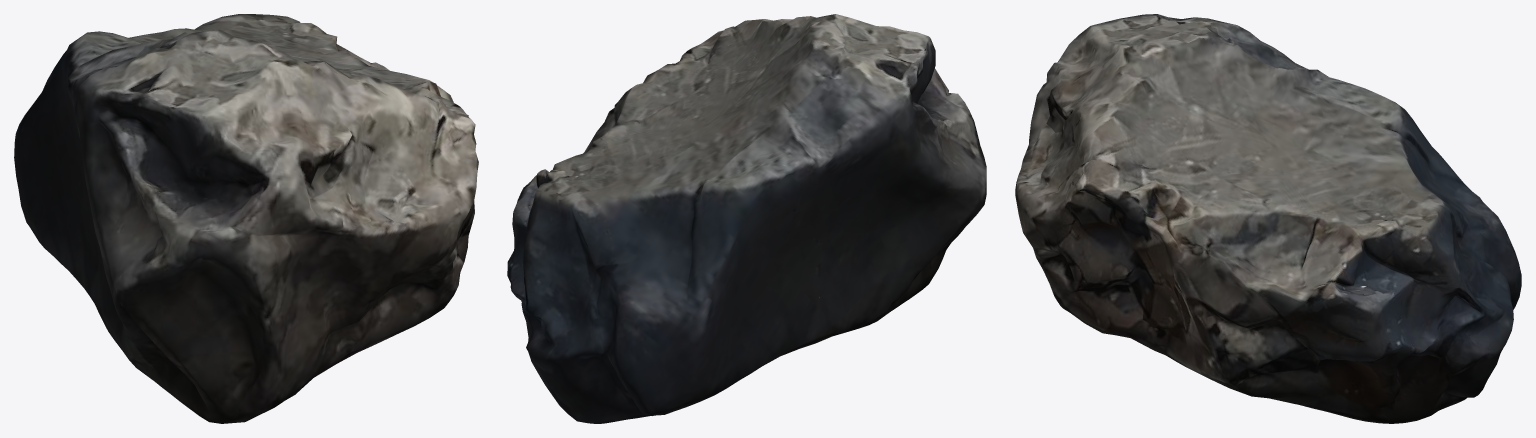
The model's file is rock2.glb.
The picture shows the model from 3 angles, left to right: view 1: azimuth 30°, elevation 25°; view 2: azimuth 150°, elevation 25°; view 3: azimuth 270°, elevation 25°; orthographic projection. The views are drawn at different scales.
Bounding box in the file's own units: 2.15 × 1.85 × 2.65.
1 material, 1 textured.
